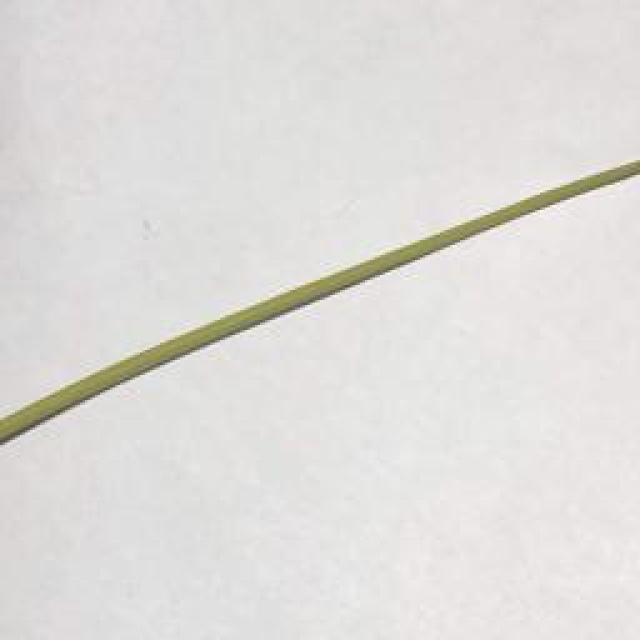Healthy-Plant: (222, 218, 468, 339), (0, 313, 223, 441), (468, 162, 640, 234)
